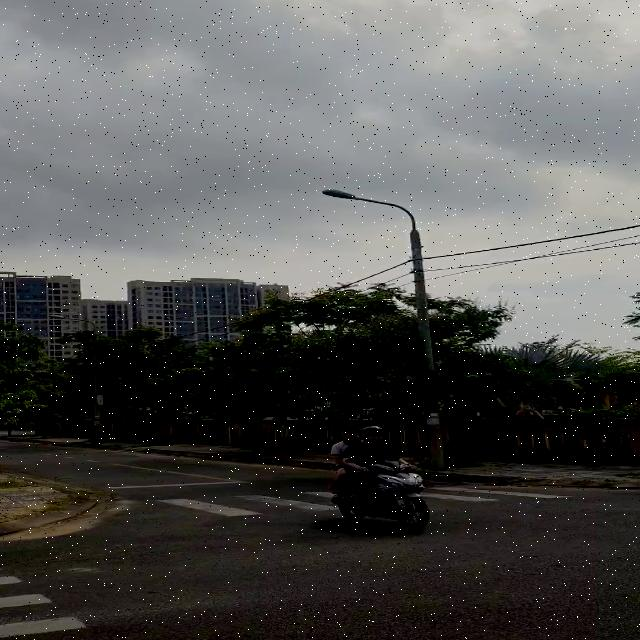helmet: (361, 426, 388, 445)
no_helmet: (339, 425, 362, 445)
